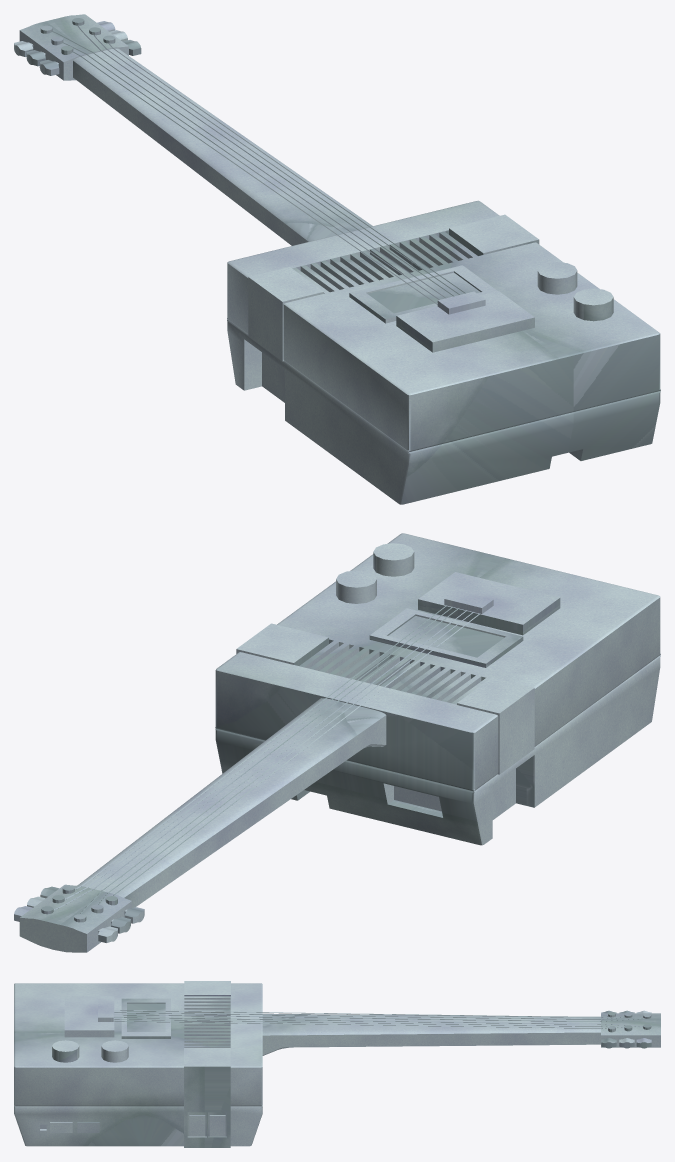
The model's file is NES Guitar.fbx.
3 views of the same model, one above another, from view 1: azimuth 30°, elevation 25°; view 2: azimuth 150°, elevation 25°; view 3: azimuth 270°, elevation 25° (orthographic). The views are drawn at different scales.
Parts seen in each view (by area): view 1: NES Guitar; view 2: NES Guitar; view 3: NES Guitar.
Part boxes in pixels (left/top/right/bottom): NES Guitar: left=14, top=14, right=660, bottom=504; NES Guitar: left=14, top=533, right=660, bottom=952; NES Guitar: left=14, top=981, right=660, bottom=1147.
Bounding box in the file's own units: 0.2004 × 0.1011 × 0.6416.
